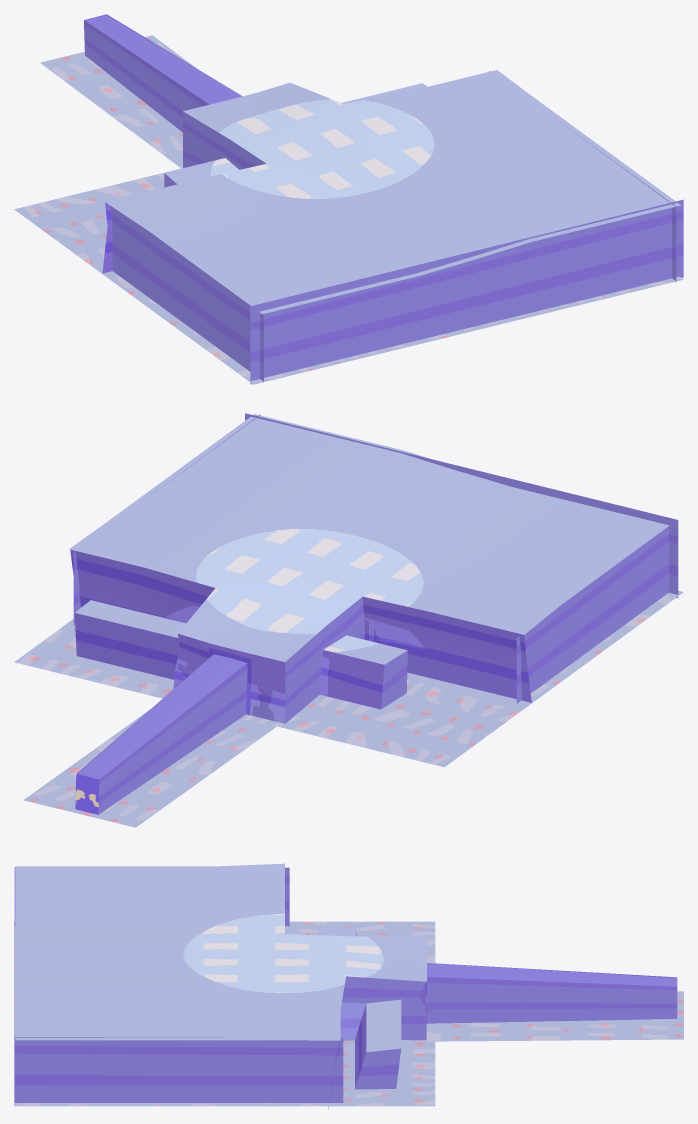
The model's file is OfficeScene.glb.
The picture shows the model from 3 angles, top to bottom: view 1: azimuth 30°, elevation 25°; view 2: azimuth 150°, elevation 25°; view 3: azimuth 270°, elevation 25°; orthographic projection. The views are drawn at different scales.
Parts seen in each view (by area): view 1: Office_Scene; view 2: Office_Scene; view 3: Office_Scene.
Part boxes in pixels (<box>): Office_Scene: <box>14,14,683,384</box>; Office_Scene: <box>14,413,683,827</box>; Office_Scene: <box>14,863,683,1108</box>.
Size of the model in its own units: 15.25 by 2.73 by 23.16.
1 material, 1 textured.
